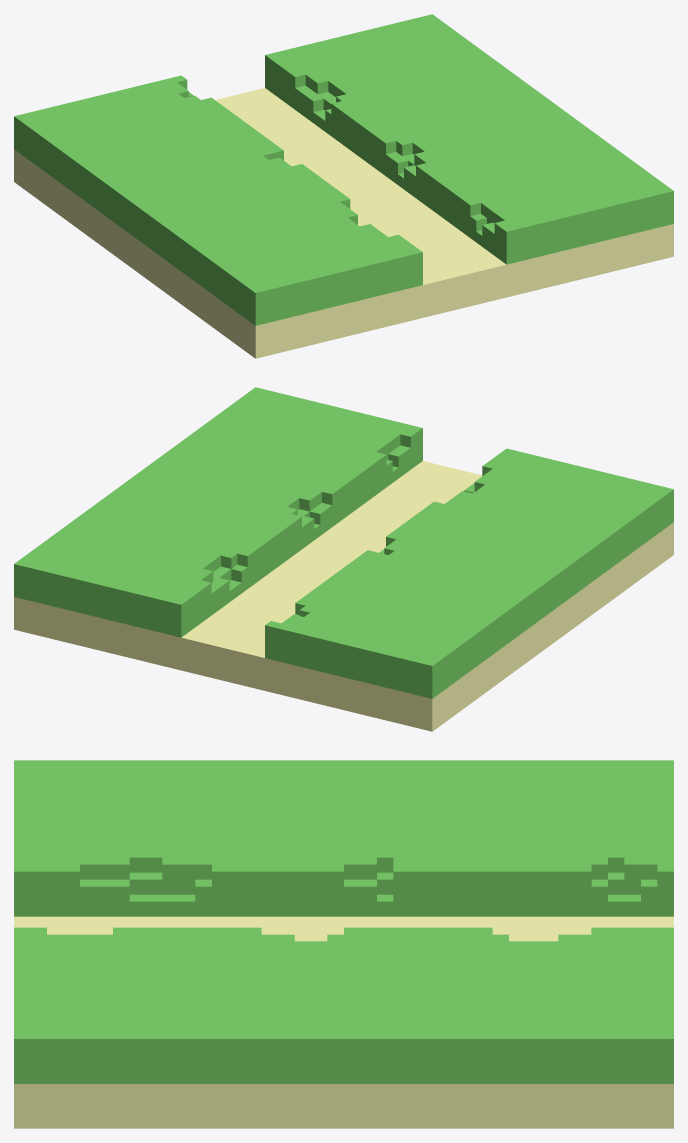
The model's file is Straight Path Plains Tile 1.obj.
3 renders of one model, top to bottom at view 1: azimuth 30°, elevation 25°; view 2: azimuth 150°, elevation 25°; view 3: azimuth 270°, elevation 25°, orthographic. The views are drawn at different scales.
Bounding box in the file's own units: 8 × 1.2 × 8.
Materials: 1 (1 with a texture image).
